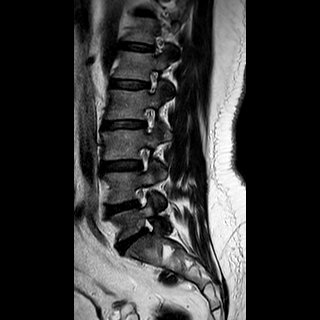RFS0: (128, 178, 153, 213), (132, 140, 155, 178), (137, 101, 159, 138), (141, 64, 163, 98)
